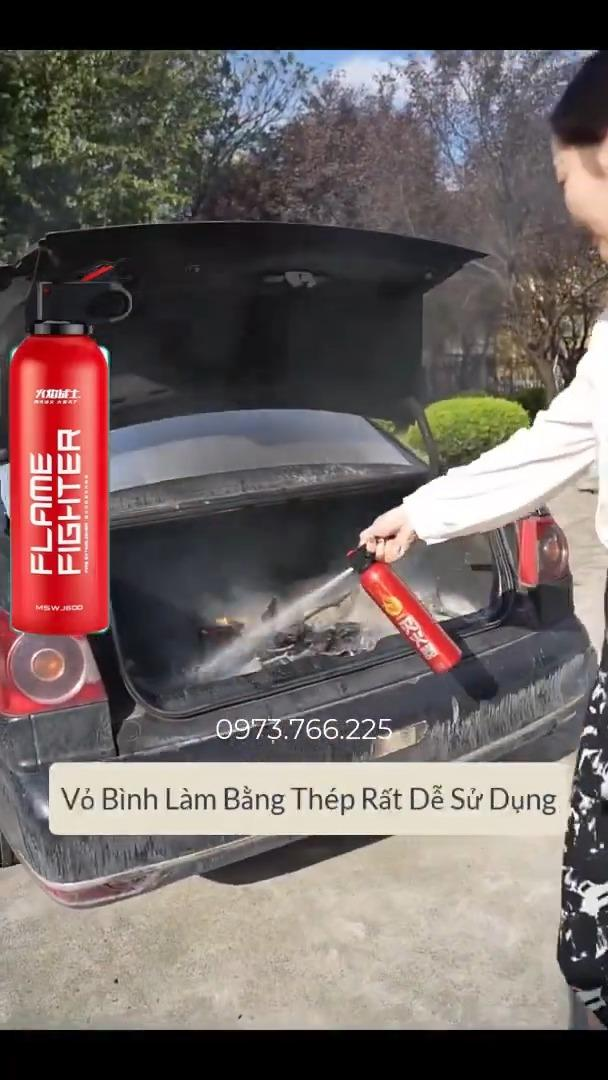FireExtinguisher: (0, 263, 140, 645), (338, 543, 468, 695)
not: (0, 633, 118, 716), (510, 503, 570, 602)
